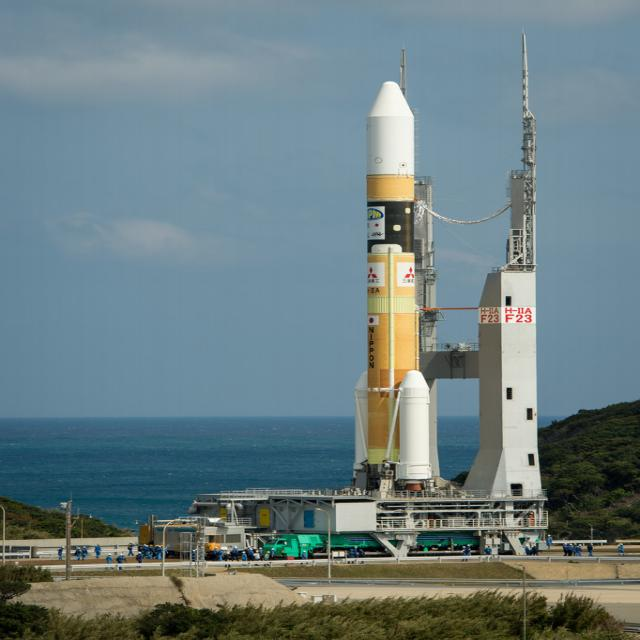rocket: (365, 72, 451, 537)
